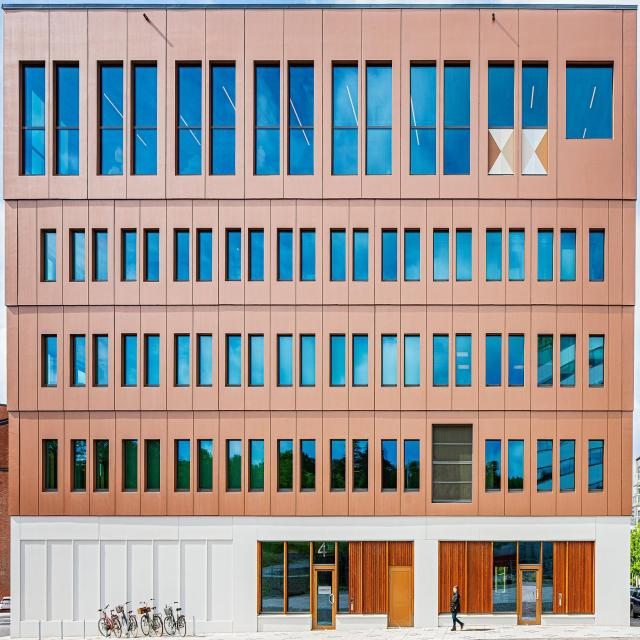door: (310, 563, 336, 632), (387, 568, 414, 632), (518, 562, 541, 626)
wall: (4, 0, 637, 638)
windows: (257, 541, 349, 614), (494, 541, 554, 614), (566, 65, 614, 140), (432, 421, 472, 502), (287, 64, 314, 174), (444, 64, 470, 170), (412, 65, 437, 175), (368, 63, 392, 173), (180, 64, 202, 174), (257, 64, 278, 176), (25, 63, 46, 174), (58, 63, 79, 174), (101, 64, 122, 175), (213, 63, 234, 174), (134, 64, 155, 174), (336, 64, 356, 175), (488, 62, 516, 131), (521, 64, 547, 130), (72, 334, 88, 386), (560, 333, 576, 384), (435, 333, 451, 384), (302, 335, 318, 386), (278, 336, 294, 387), (250, 334, 266, 385), (196, 337, 212, 388), (588, 438, 604, 489), (538, 437, 554, 488), (510, 436, 526, 487), (486, 437, 502, 488), (403, 438, 419, 489), (352, 439, 368, 490), (250, 438, 266, 489), (227, 439, 243, 490), (72, 438, 88, 489), (588, 335, 604, 385), (538, 334, 554, 384), (510, 333, 526, 383), (403, 335, 419, 385), (486, 334, 502, 384), (352, 336, 368, 386), (227, 336, 243, 386), (560, 437, 576, 487), (302, 439, 318, 489), (278, 440, 294, 490), (196, 441, 212, 491), (331, 336, 346, 387), (381, 440, 396, 491), (458, 332, 473, 382), (381, 337, 396, 387), (331, 440, 346, 490), (176, 334, 190, 386), (176, 438, 190, 490), (407, 227, 421, 278), (381, 232, 395, 283), (353, 231, 367, 282), (331, 232, 345, 283), (303, 231, 317, 282), (280, 232, 294, 283), (200, 231, 214, 282), (510, 229, 524, 279), (250, 232, 264, 282), (45, 230, 59, 280), (73, 231, 87, 281), (125, 231, 139, 281), (176, 231, 190, 281), (44, 335, 57, 388), (44, 439, 57, 492), (488, 229, 501, 280), (229, 232, 242, 283), (95, 230, 108, 281), (589, 230, 602, 280), (561, 229, 574, 279), (539, 230, 552, 280), (458, 228, 471, 278), (436, 229, 449, 279), (148, 230, 161, 280), (95, 338, 108, 388), (95, 442, 108, 491), (126, 438, 137, 492), (126, 335, 137, 388), (147, 335, 158, 388), (147, 439, 158, 491)
